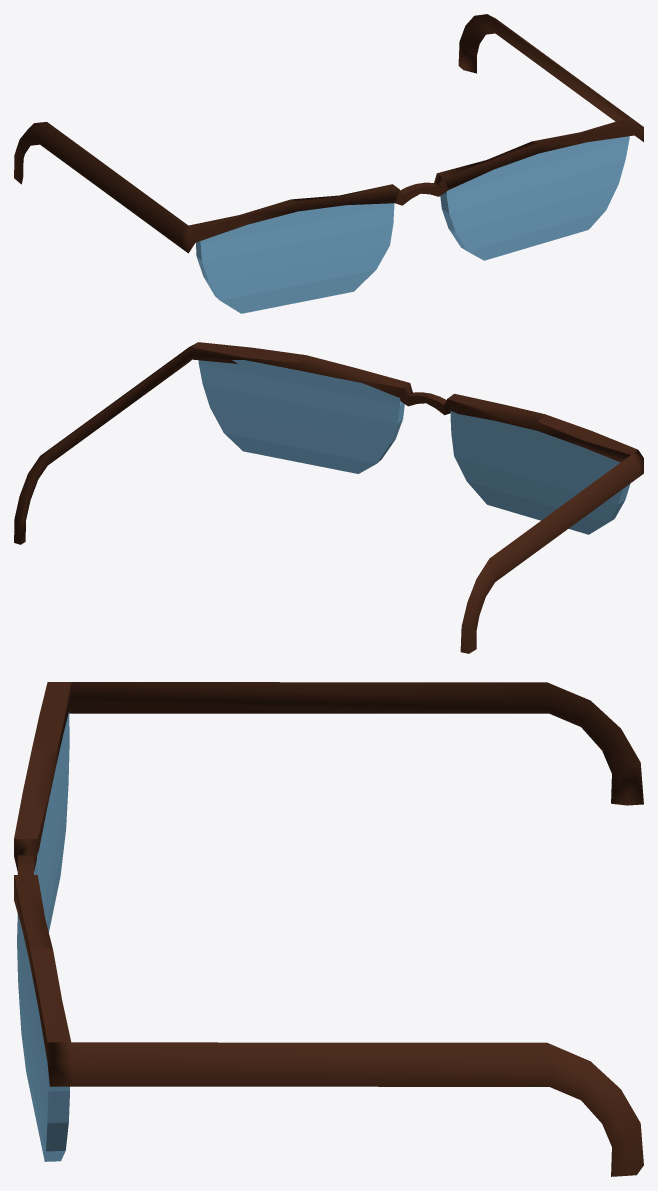
Rendered from GAFAS_MARIO.fbx.
The picture shows the model from 3 angles, top to bottom: view 1: azimuth 30°, elevation 25°; view 2: azimuth 150°, elevation 25°; view 3: azimuth 270°, elevation 25°; orthographic projection. The views are drawn at different scales.
Parts seen in each view (by area): view 1: Cube, Cube.002, Cube.001; view 2: Cube.002, Cube.001, Cube; view 3: Cube.002, Cube.001, Cube.
Boxes of the visible parts, box(x1,y1,x2,y2) form: Cube: box(196, 203, 394, 313); Cube.002: box(14, 14, 643, 253); Cube.001: box(440, 136, 629, 260); Cube.002: box(14, 342, 643, 653); Cube.001: box(198, 360, 404, 473); Cube: box(450, 410, 630, 534); Cube.002: box(14, 682, 643, 1176); Cube.001: box(17, 914, 69, 1161); Cube: box(17, 711, 69, 932).
Bounding box in the file's own units: 40.37 × 8.68 × 28.78.
